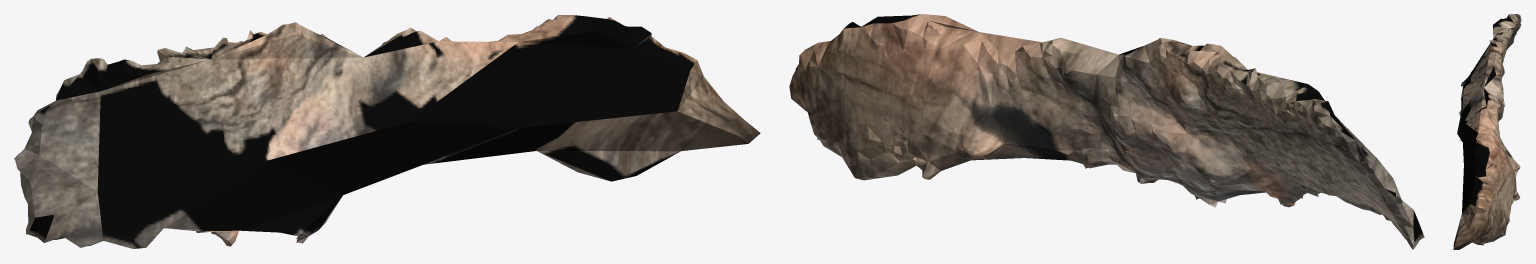
File: texturedMesh.obj
3 renders of one model, left to right at view 1: azimuth 30°, elevation 25°; view 2: azimuth 150°, elevation 25°; view 3: azimuth 270°, elevation 25°, orthographic. The views are drawn at different scales.
Parts seen in each view (by area): view 1: TexturedMesh; view 2: TexturedMesh; view 3: TexturedMesh.
Boxes of the visible parts, bbox=[...] form: TexturedMesh: bbox=[14, 15, 760, 248]; TexturedMesh: bbox=[789, 14, 1424, 249]; TexturedMesh: bbox=[1453, 14, 1521, 249].
Size of the model in its own units: 1.12 by 0.357 by 0.1928.
Materials: 1 (1 with a texture image).
